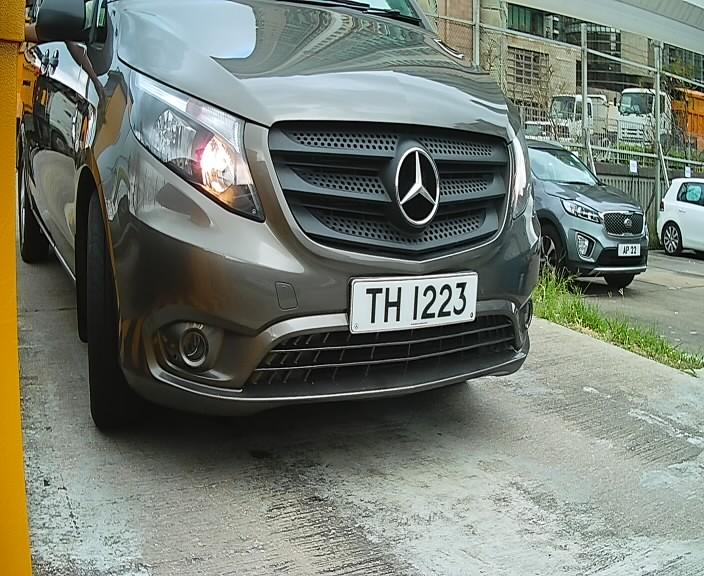License Plate: (335, 263, 485, 339)
